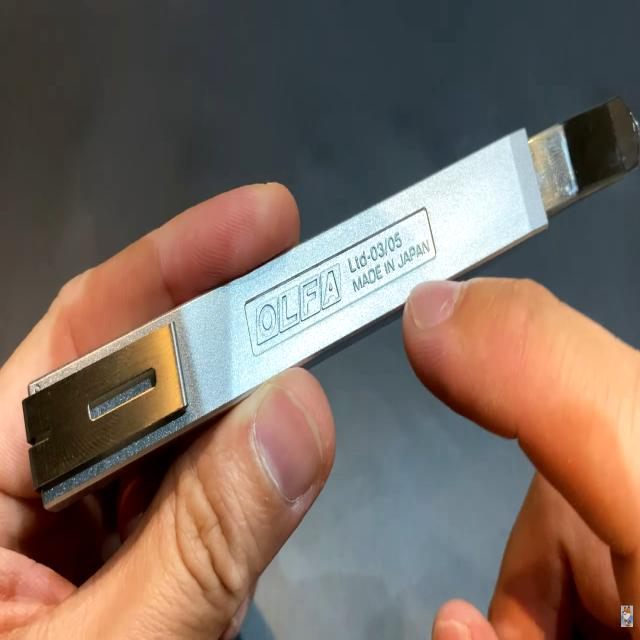cutter: (0, 59, 640, 640)
